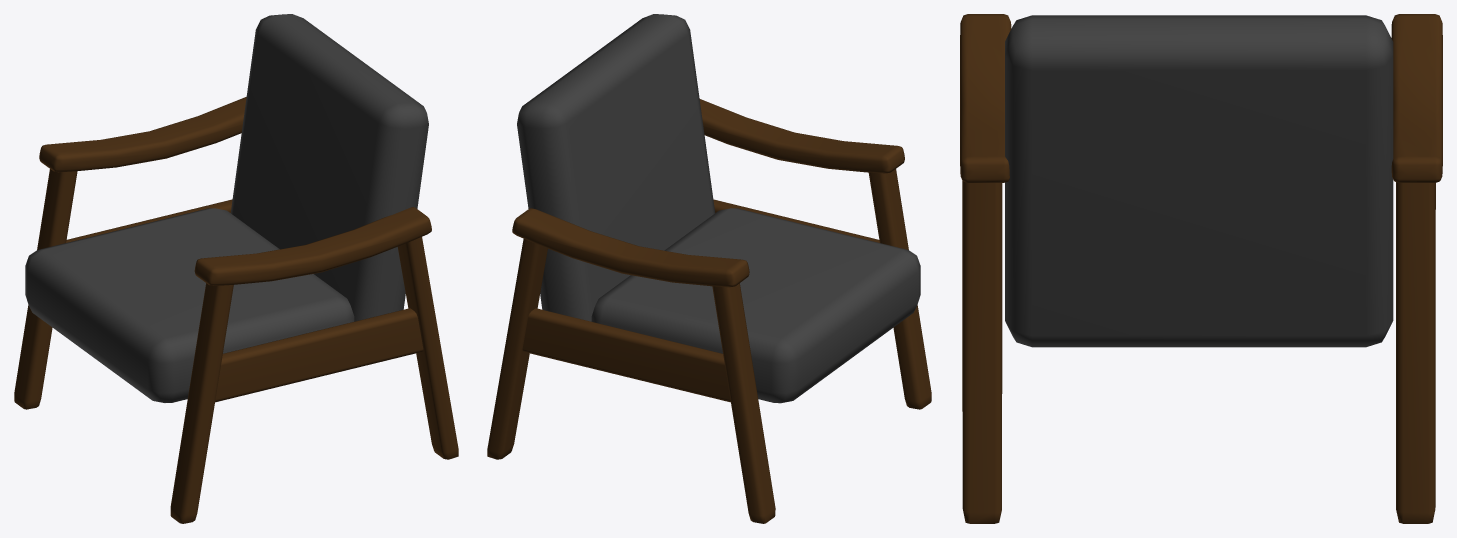
Rendered from armchair_08_black.fbx.
3 views of the same model, side by side, from view 1: azimuth 30°, elevation 25°; view 2: azimuth 150°, elevation 25°; view 3: azimuth 270°, elevation 25° (orthographic). The views are drawn at different scales.
Parts seen in each view (by area): view 1: armchair_08_black; view 2: armchair_08_black; view 3: armchair_08_black.
Boxes of the visible parts, x1,y1,x2,y2 form: armchair_08_black: (14,14,458,523); armchair_08_black: (487,14,931,523); armchair_08_black: (960,14,1442,523).
Size of the model in its own units: 94.97 by 109 by 99.4.
2 materials, 2 textured.
